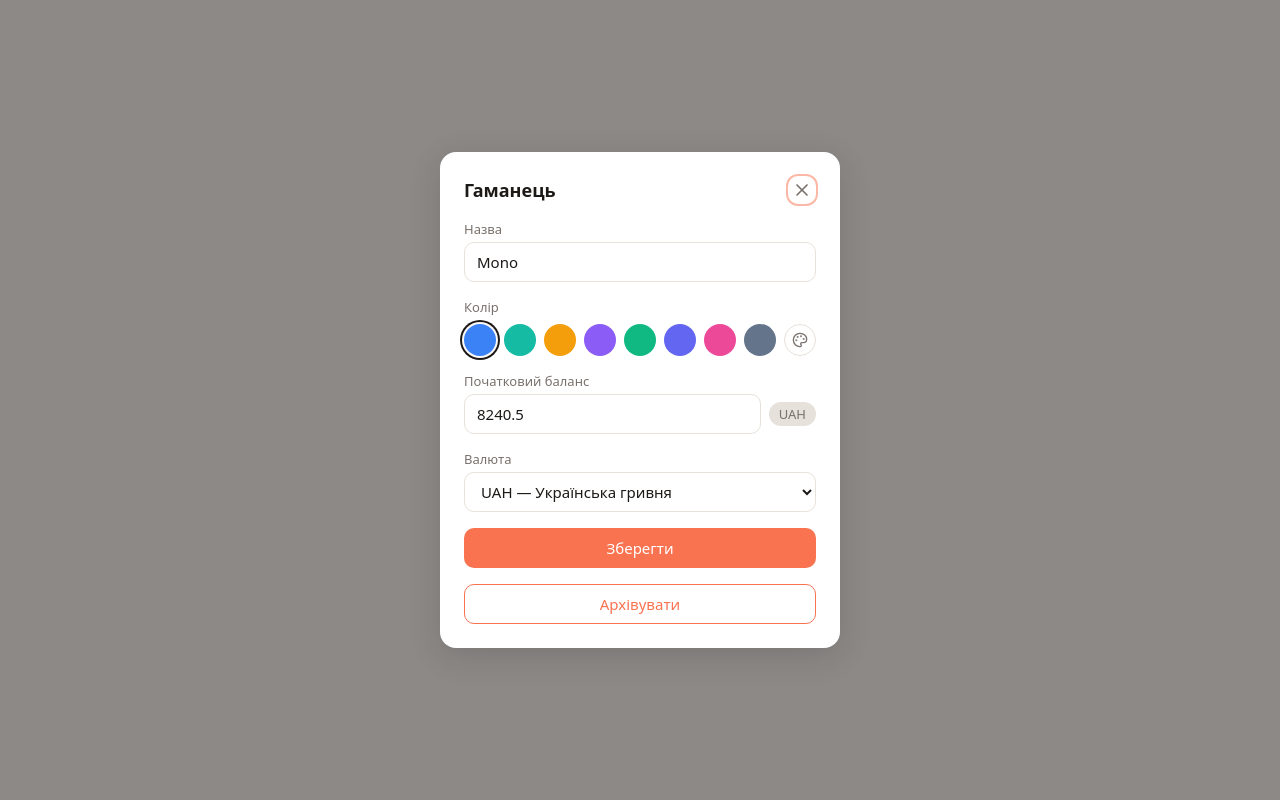
Test: WalletDialog › a half-typed initial balance does not block a currency change
Replace the text in the field labelled "Початковий баланс" with "abc" at (612, 414), box [464,394,761,434]
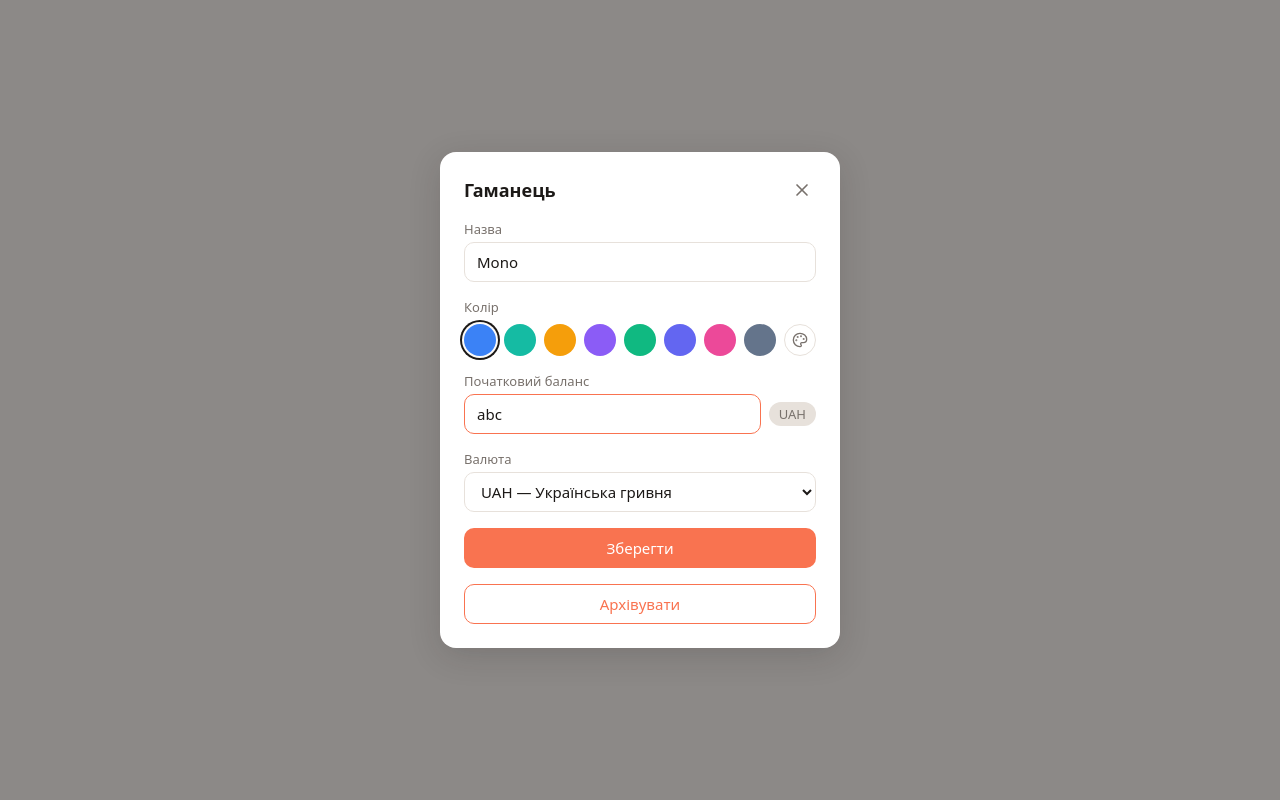
Select "USD" in the dropdown labelled "Валюта" at (640, 492), box [464,472,816,512]
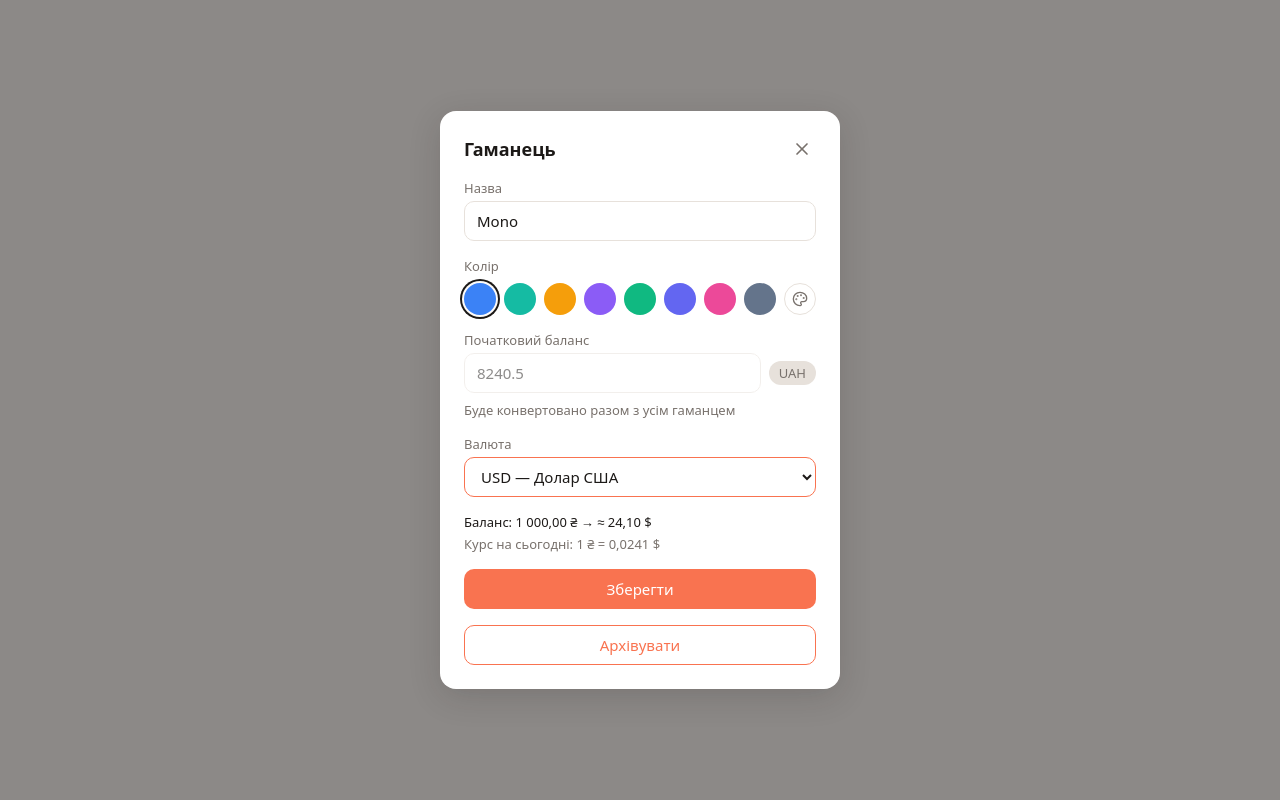
Check: the text "Баланс: 1 000,00 ₴ → ≈ 24,10 $" is shown, box [464,513,652,531]
Click the button "Зберегти" at (640, 589), box [464,569,816,609]
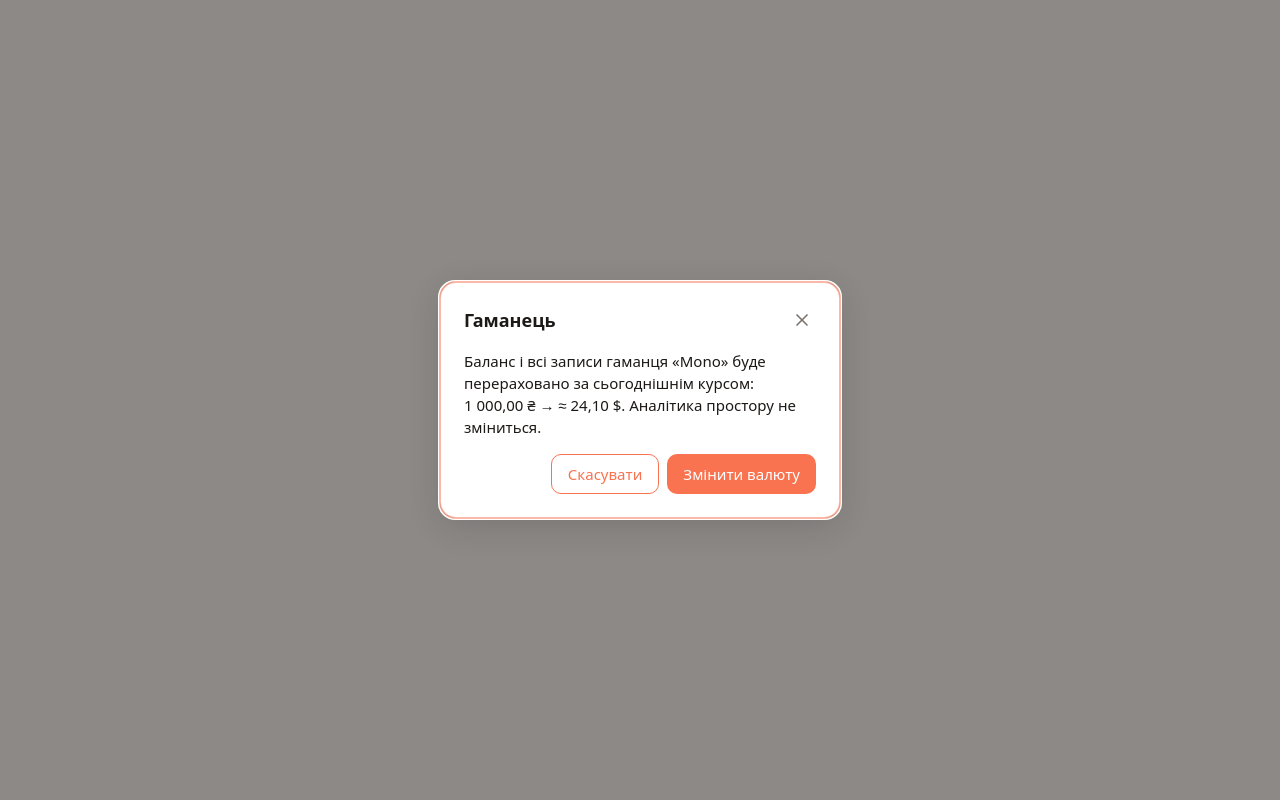
Check: the button "Змінити валюту" is shown, box [667,454,816,494]
